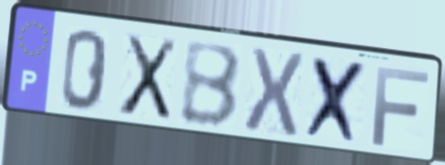0: (59, 26, 111, 114)
B: (178, 41, 244, 131)
F: (370, 64, 433, 150)
X: (302, 53, 372, 149), (241, 44, 307, 139), (116, 32, 180, 124)
